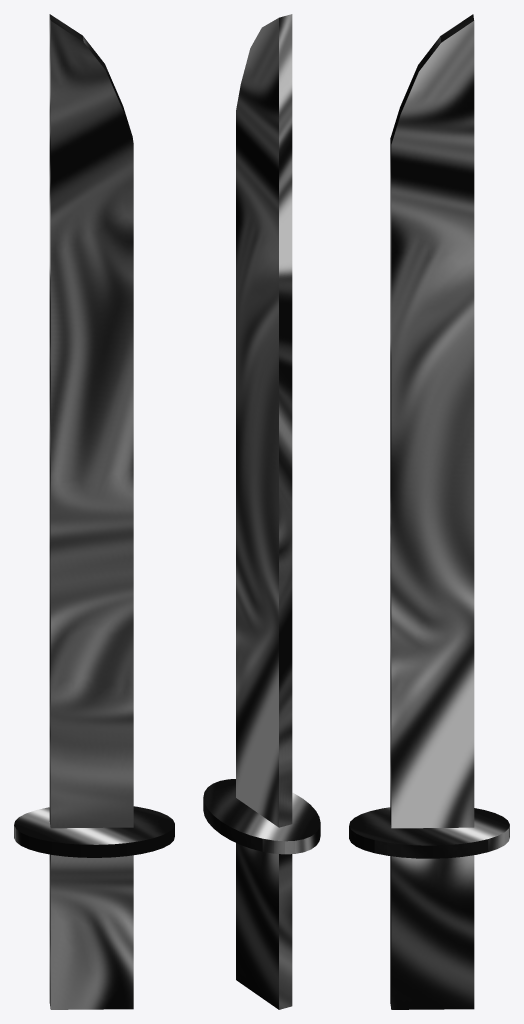
Rendered from hammer.obj.
3 renders of one model, left to right at view 1: azimuth 90°, elevation 25°; view 2: azimuth 210°, elevation 25°; view 3: azimuth 270°, elevation 25°, orthographic.
Parts seen in each view (by area): view 1: Cube.003; view 2: Cube.003; view 3: Cube.003.
Part boxes in pixels (x1,y1,x2,y2): Cube.003: (14,14,174,1009); Cube.003: (203,14,320,1009); Cube.003: (349,14,509,1009).
Bounding box in the file's own units: 0.3715 × 4.16 × 0.6126.
Materials: 1 (1 with a texture image).
